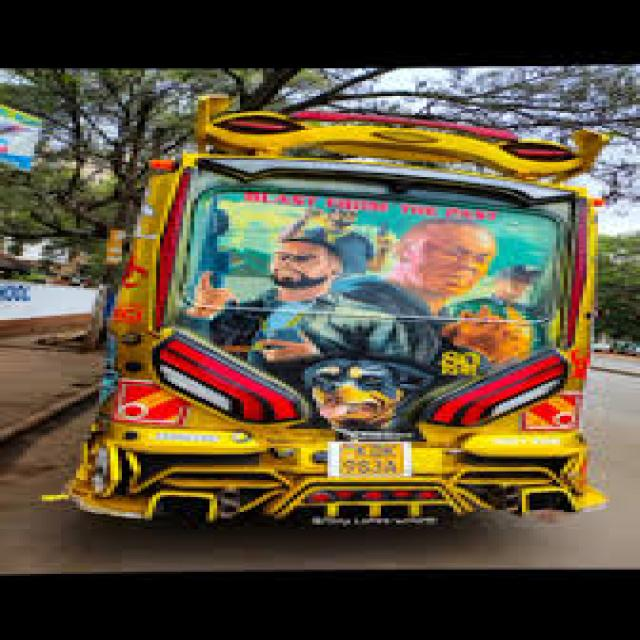bus: (29, 79, 636, 548)
